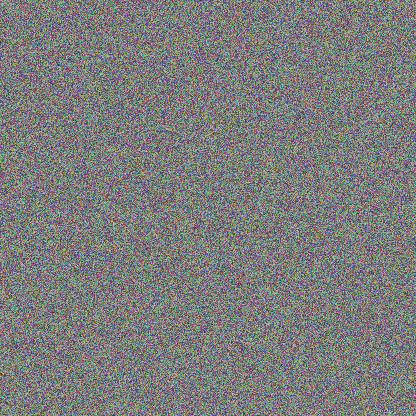occupied: (85, 209, 205, 265), (131, 271, 248, 327)
